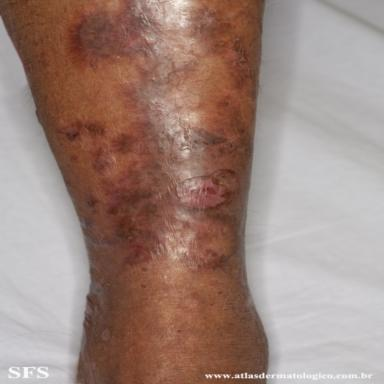Epidermolysis-Bullosa-Pruriginosa: (55, 0, 261, 269), (79, 217, 117, 345), (88, 194, 101, 207), (211, 101, 230, 107)
